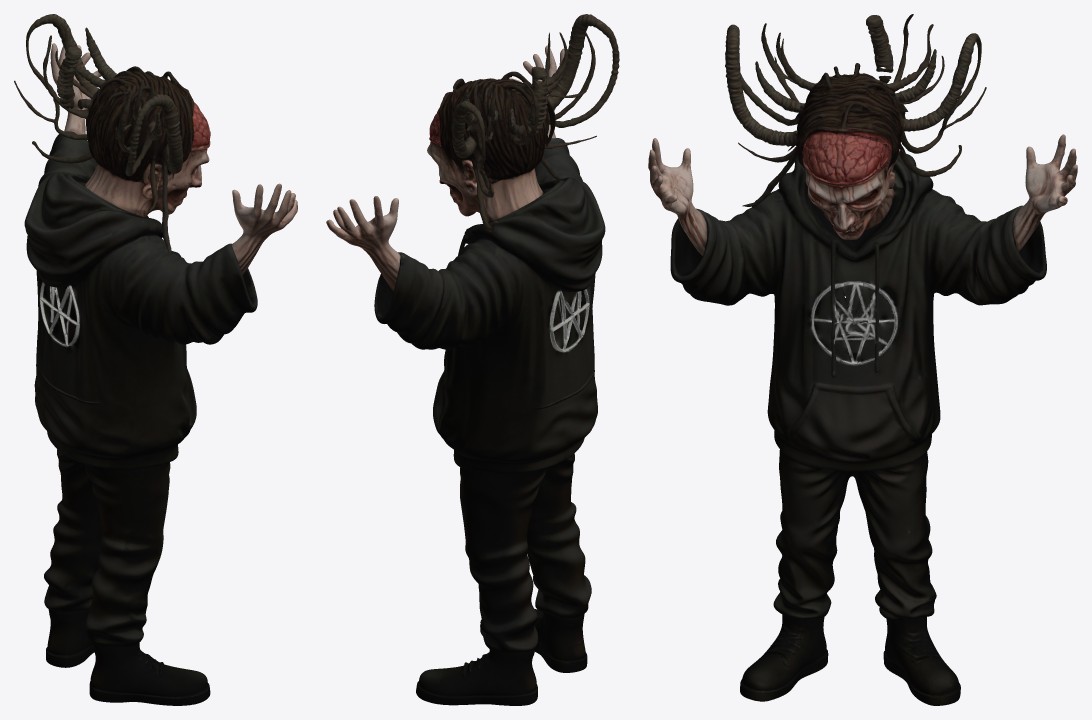
Rendered from Tecnocultist demon face.glb.
The picture shows the model from 3 angles, left to right: view 1: azimuth 30°, elevation 25°; view 2: azimuth 150°, elevation 25°; view 3: azimuth 270°, elevation 25°; orthographic projection. The views are drawn at different scales.
Visible parts, largest first — view 1: tripo_node_59cab147-be14-4150-8dd6-047334992563; view 2: tripo_node_59cab147-be14-4150-8dd6-047334992563; view 3: tripo_node_59cab147-be14-4150-8dd6-047334992563.
Part boxes in pixels (x1,y1,x2,y2): tripo_node_59cab147-be14-4150-8dd6-047334992563: [14, 14, 297, 705]; tripo_node_59cab147-be14-4150-8dd6-047334992563: [326, 14, 619, 705]; tripo_node_59cab147-be14-4150-8dd6-047334992563: [648, 14, 1077, 705].
Size of the model in its own units: 0.3029 by 1 by 0.6019.
1 material, 1 textured.
